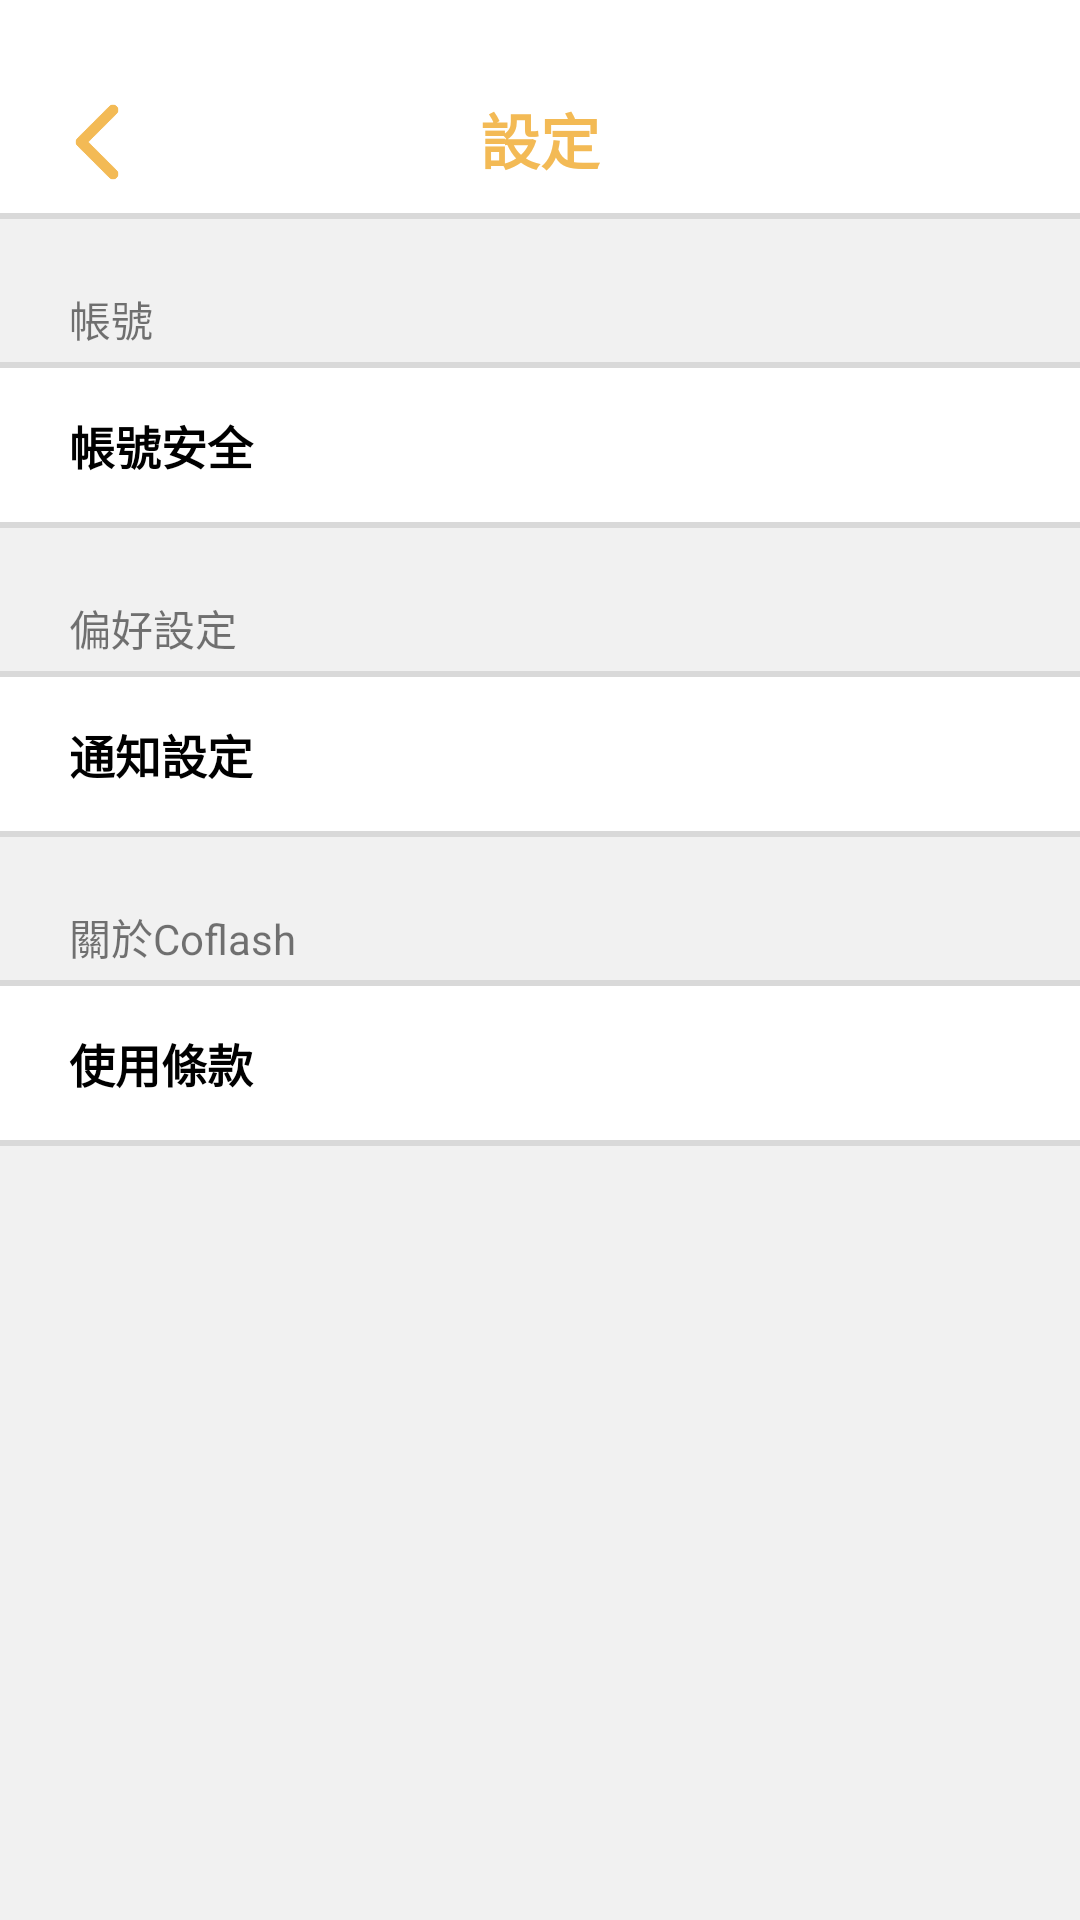

Locate icon controls on the screen. Image size 1080 × 1920, boxes as (x1, y1, x2, y2).
back: (75, 104, 119, 180)
